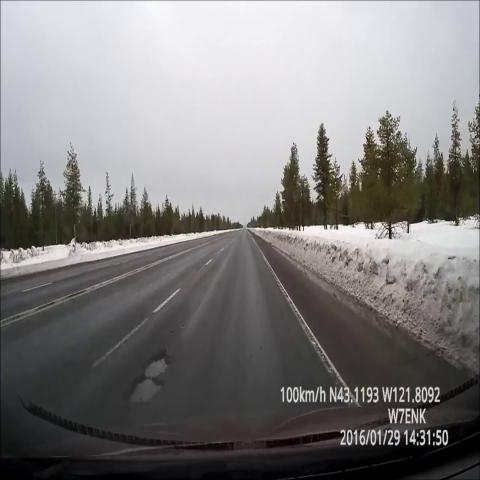pothole: (119, 336, 176, 421)
